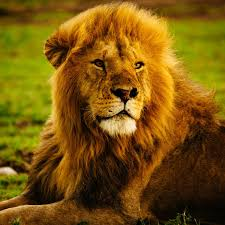lion: (40, 16, 203, 211)
